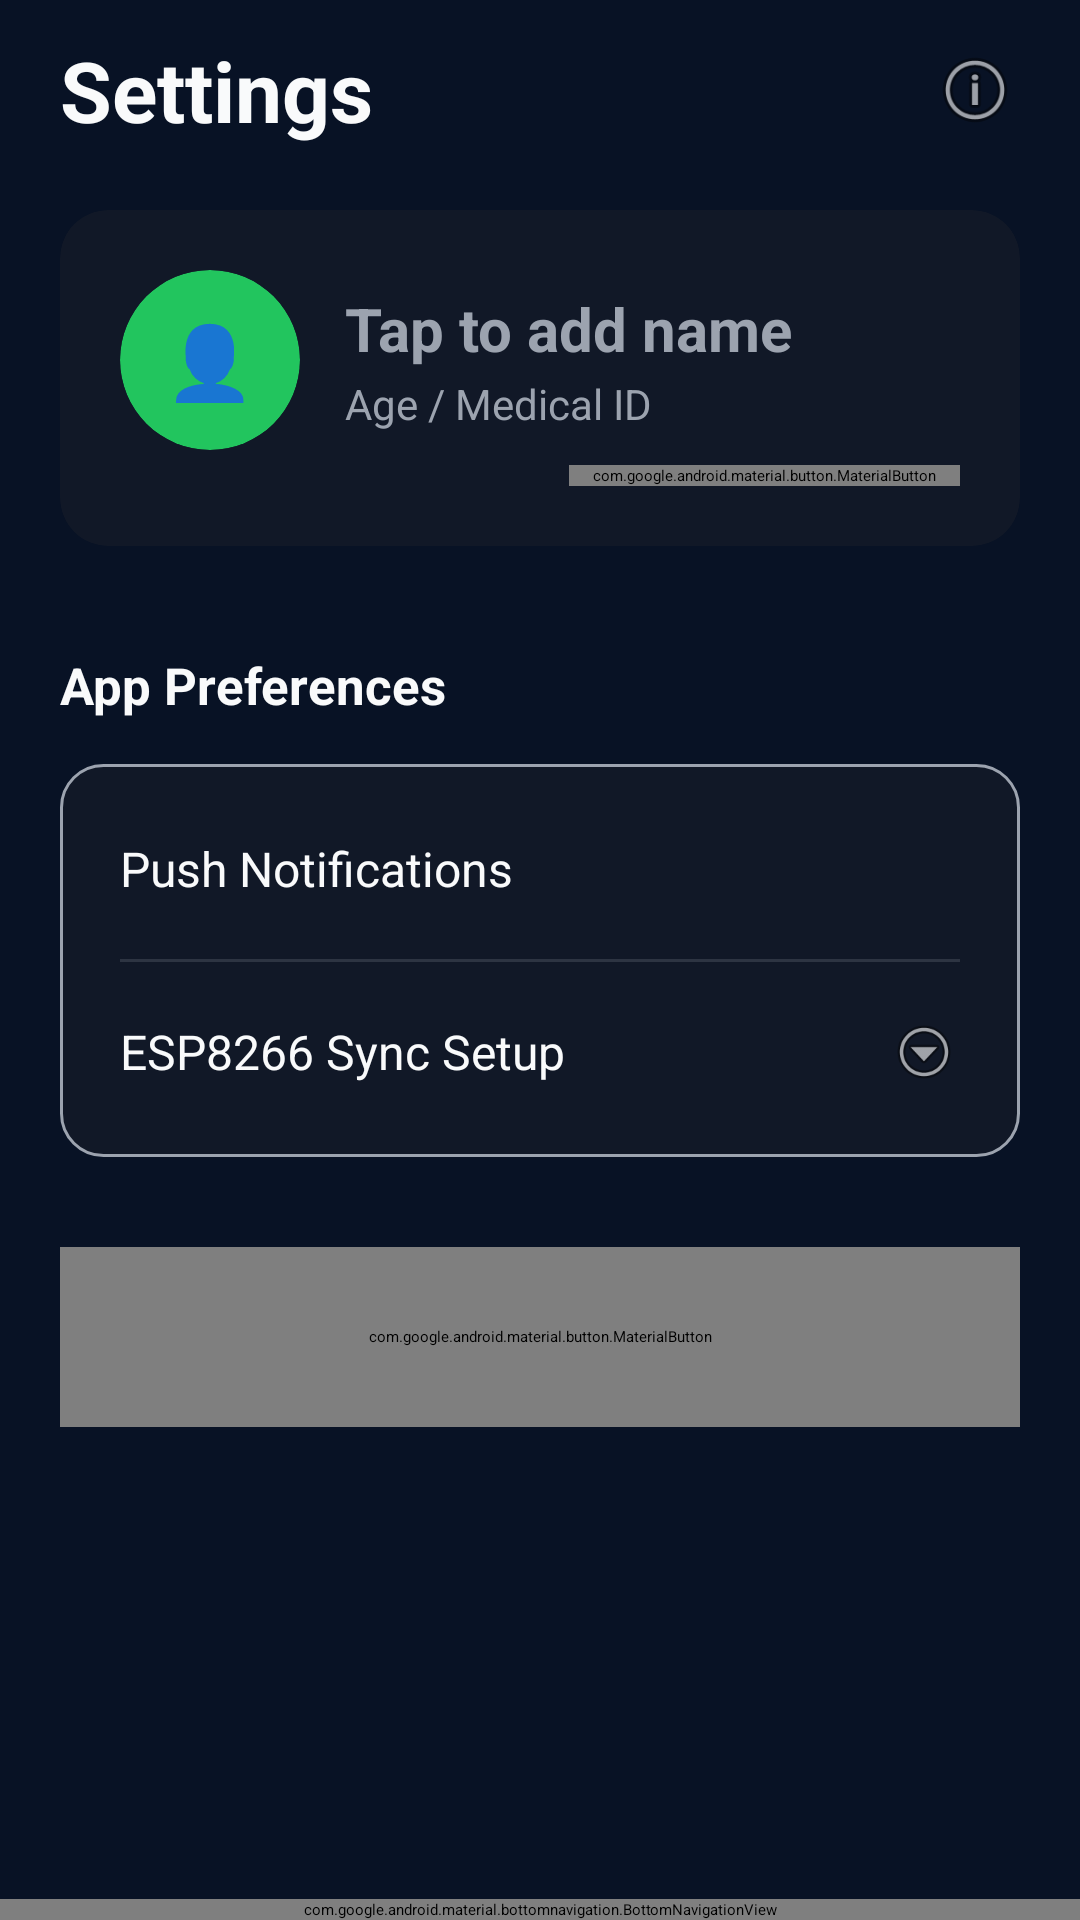

Point at icon controls on the screen. Image size 1080 x 1920, points as (x=x, y=y).
About: (x=975, y=90)
more: (x=924, y=1052)
